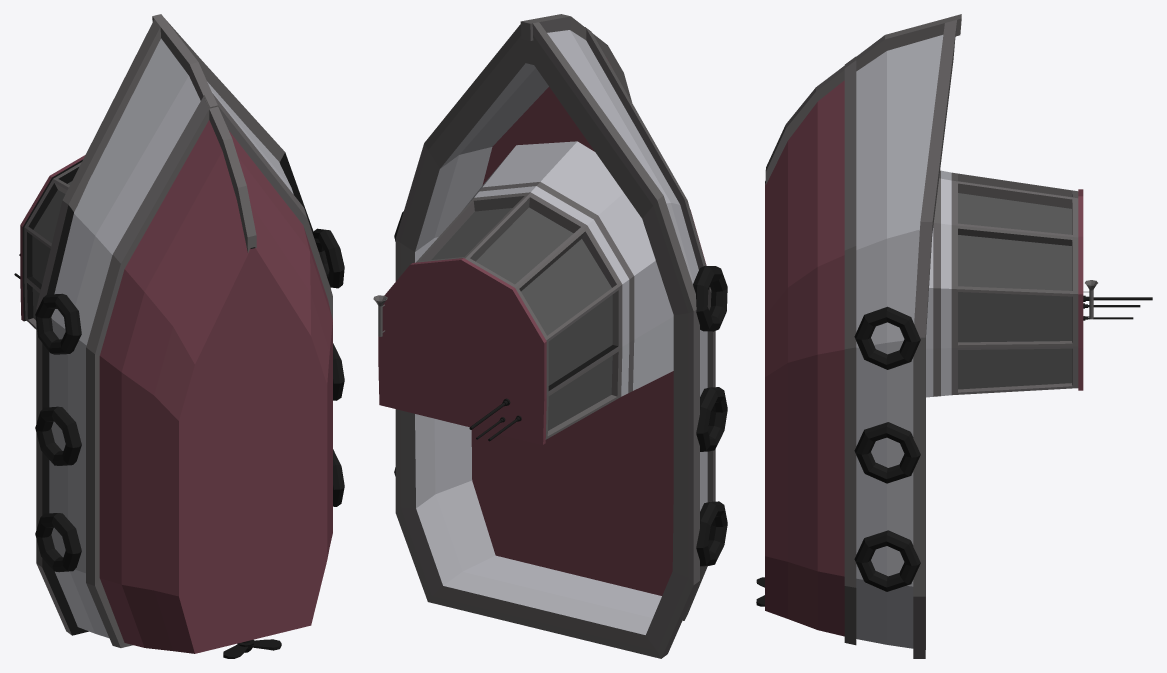
The model's file is tekne4.fbx.
3 views of the same model, side by side, from view 1: azimuth 30°, elevation 25°; view 2: azimuth 150°, elevation 25°; view 3: azimuth 270°, elevation 25° (orthographic). The views are drawn at different scales.
Visible parts, largest first — view 1: tekne; view 2: tekne; view 3: tekne.
Part boxes in pixels (x1,y1,x2,y2): tekne: [14, 14, 344, 658]; tekne: [373, 14, 727, 658]; tekne: [756, 14, 1152, 658].
Bounding box in the file's own units: 112 × 213 × 130.
